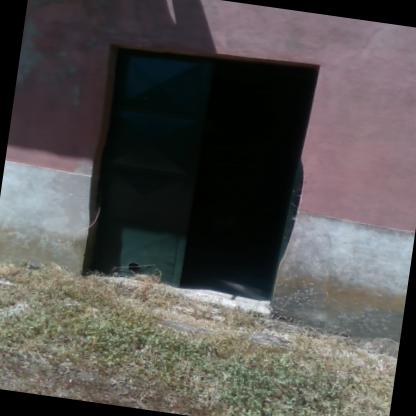open: (60, 20, 336, 318)
